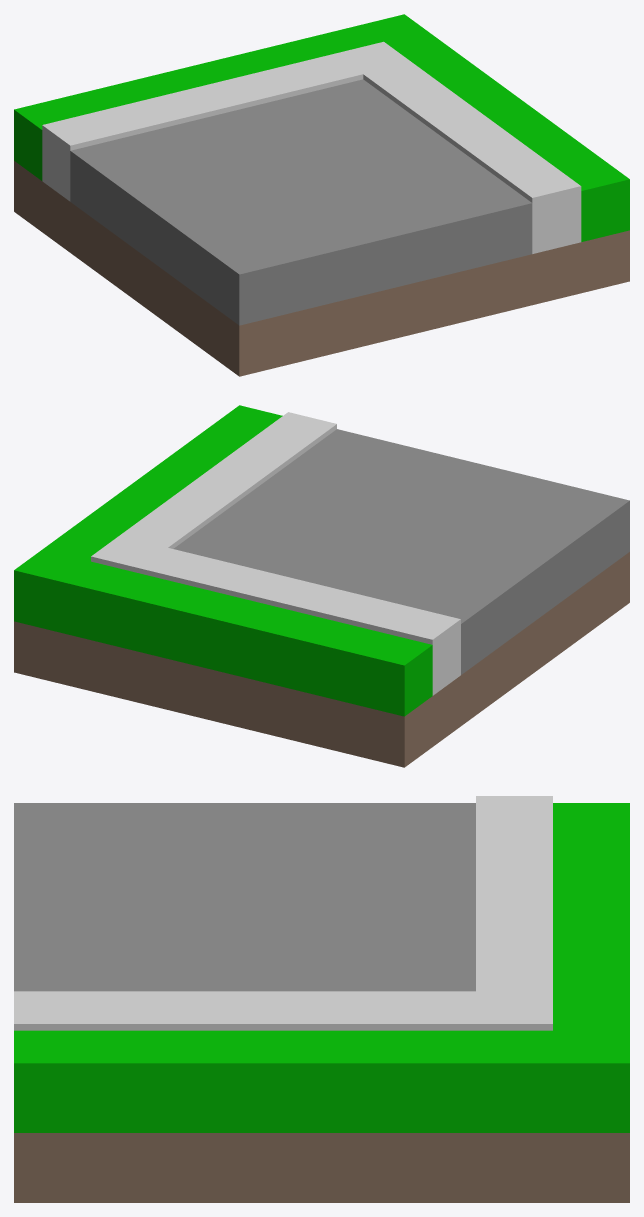
File: EsquinaEsq.fbx
3 views of the same model, one above another, from view 1: azimuth 30°, elevation 25°; view 2: azimuth 150°, elevation 25°; view 3: azimuth 270°, elevation 25° (orthographic). The views are drawn at different scales.
Visible parts, largest first — view 1: EsquinaEsq; view 2: EsquinaEsq; view 3: EsquinaEsq.
Boxes of the visible parts, left/top/right/bottom form: EsquinaEsq: left=14, top=14, right=629, bottom=376; EsquinaEsq: left=14, top=405, right=629, bottom=767; EsquinaEsq: left=14, top=796, right=629, bottom=1202.
Size of the model in its own units: 3.36 by 0.8814 by 3.36.
